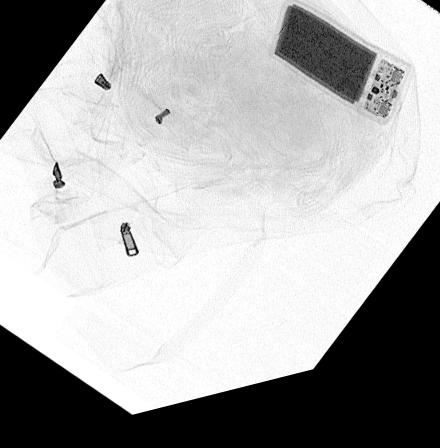Powerbank: (268, 10, 412, 145)
